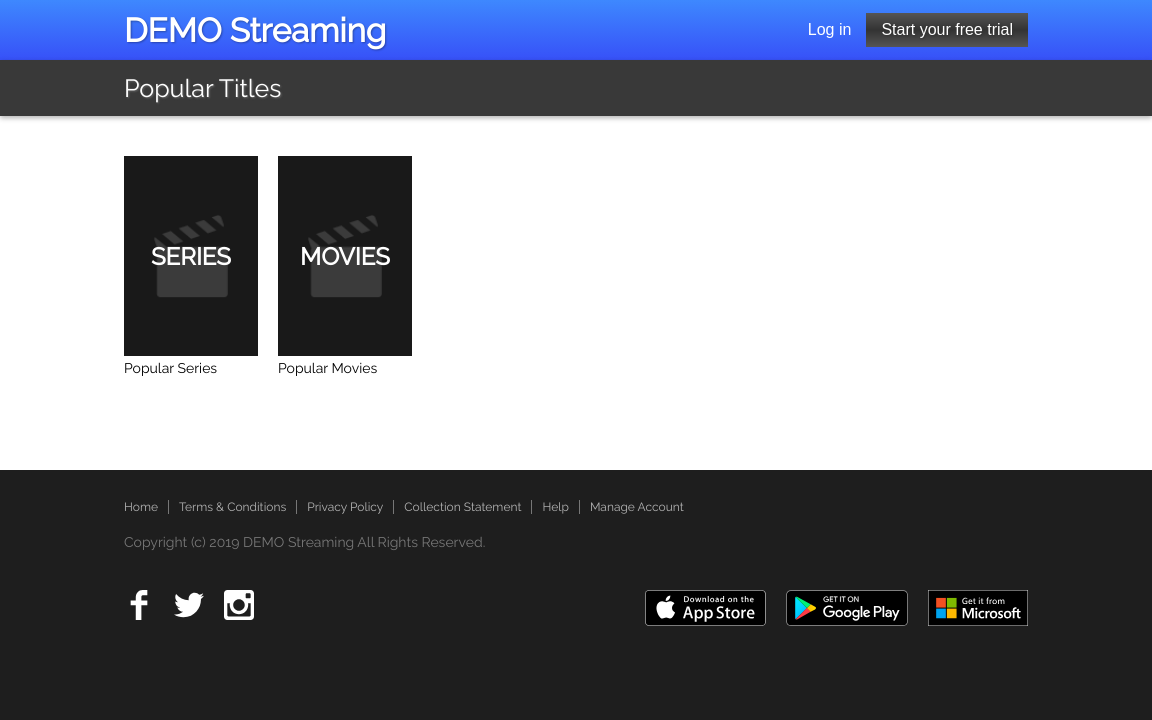
Scenario: Authentication › Log out
Click the button "Log in" at point(830, 30), box [793,13,867,47]
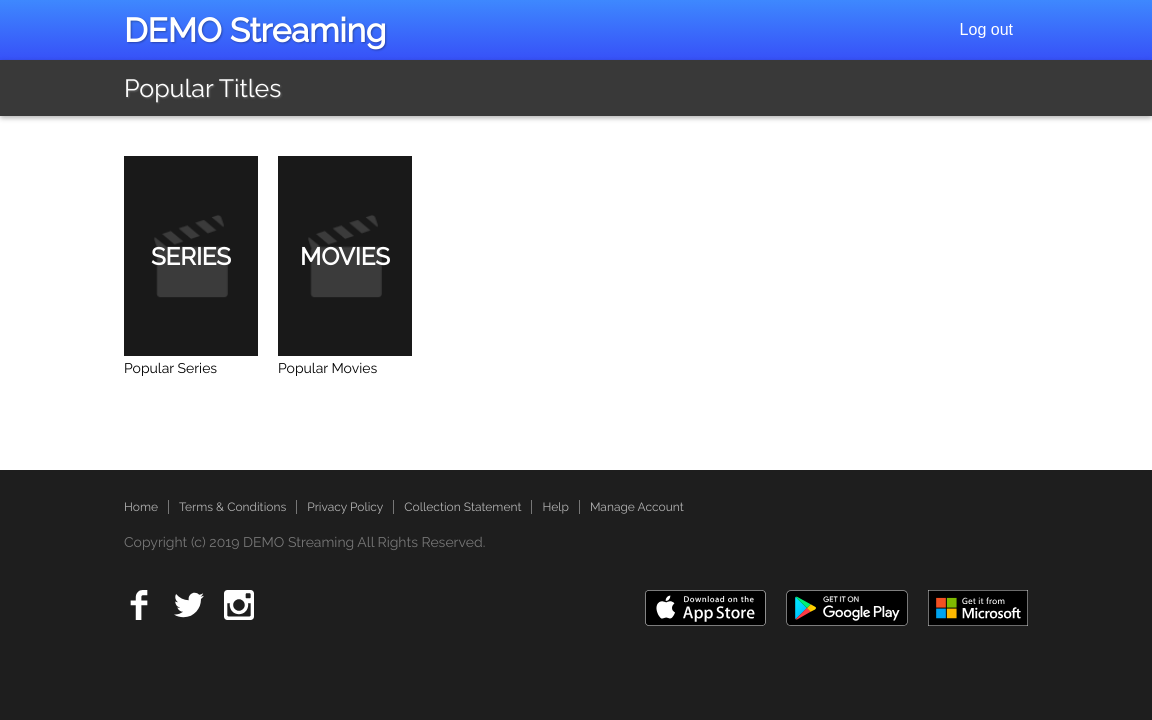
Click the button "Log out" at point(987, 30), box [945,13,1028,47]
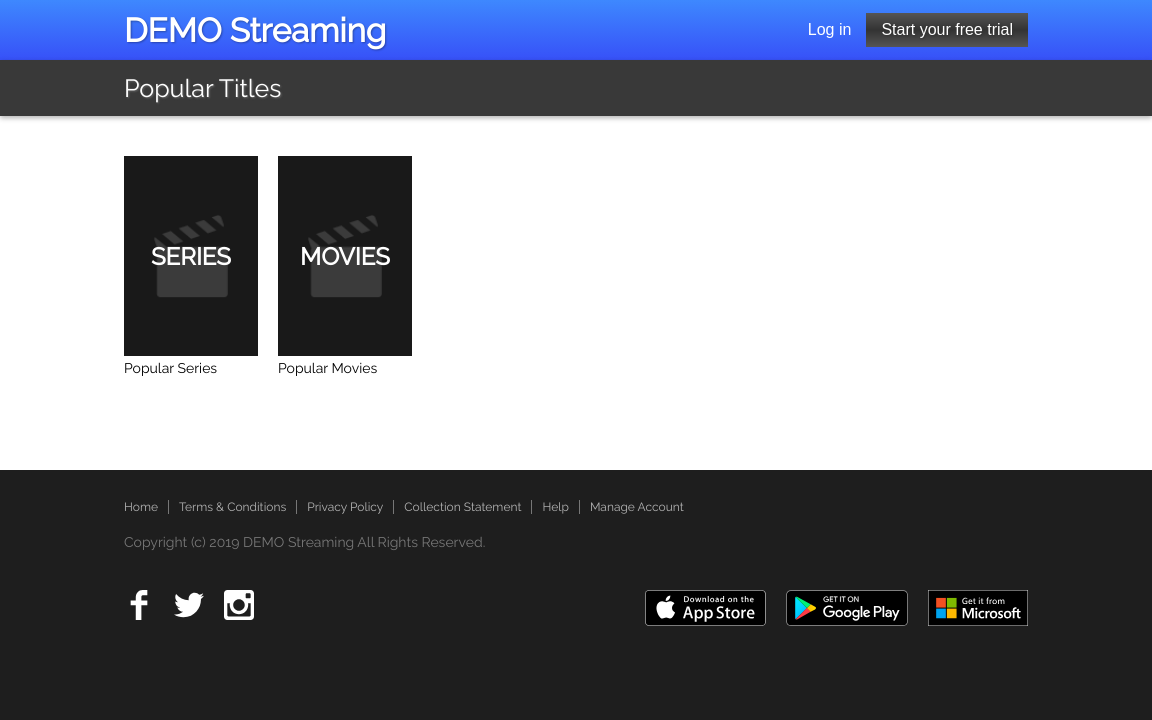
expect the button "Log in" is shown: met, box [793,13,866,47]
